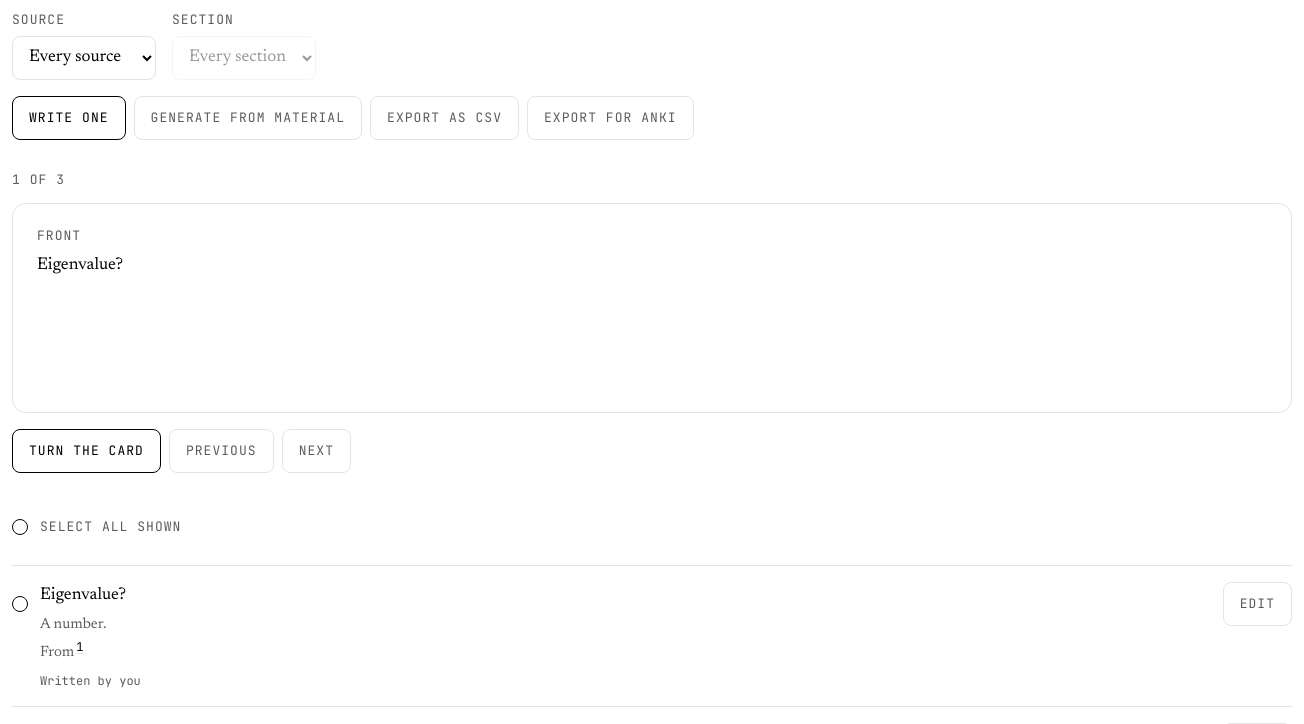
Test: a selection outlives a filter change › says how many of them the filter is hiding, before anything acts on them
This screenshot has width=1304, height=724.
Click the checkbox named "Select this one" at [20, 604], box [12,596,28,612]
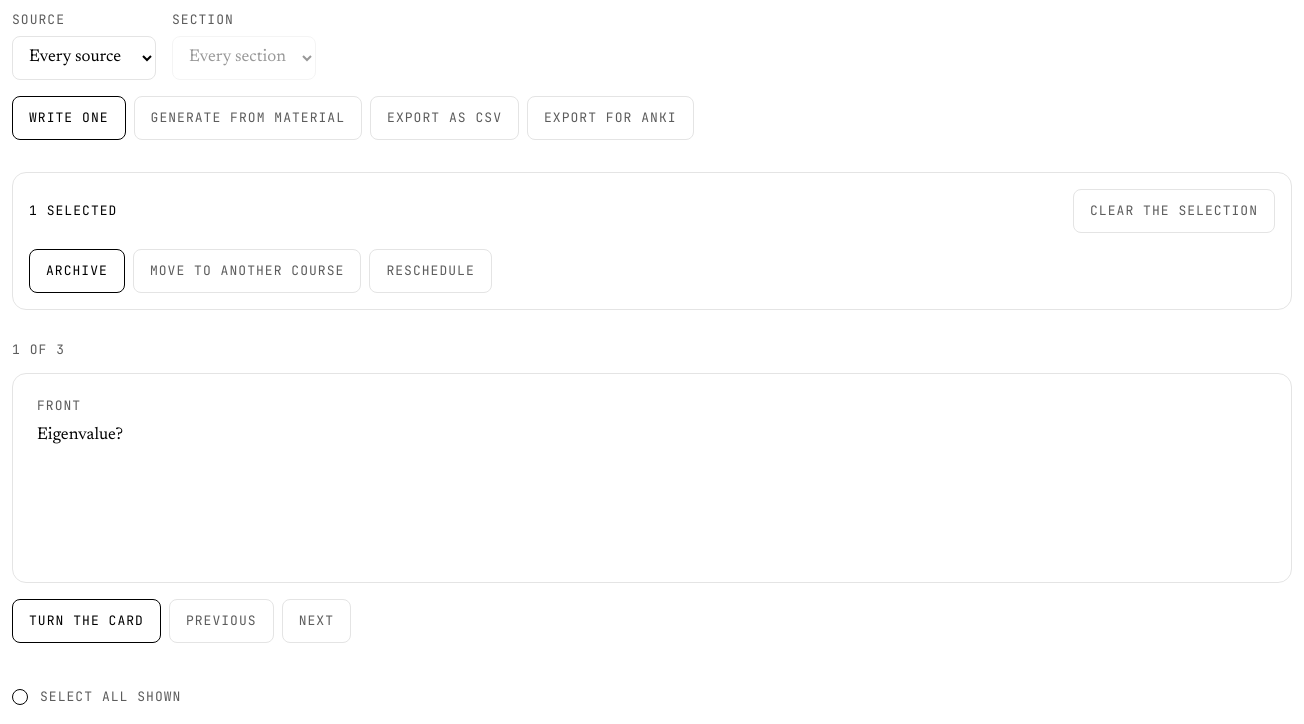
Select "Handout" in the dropdown labelled "Source" at [84, 58], box [12,36,156,80]
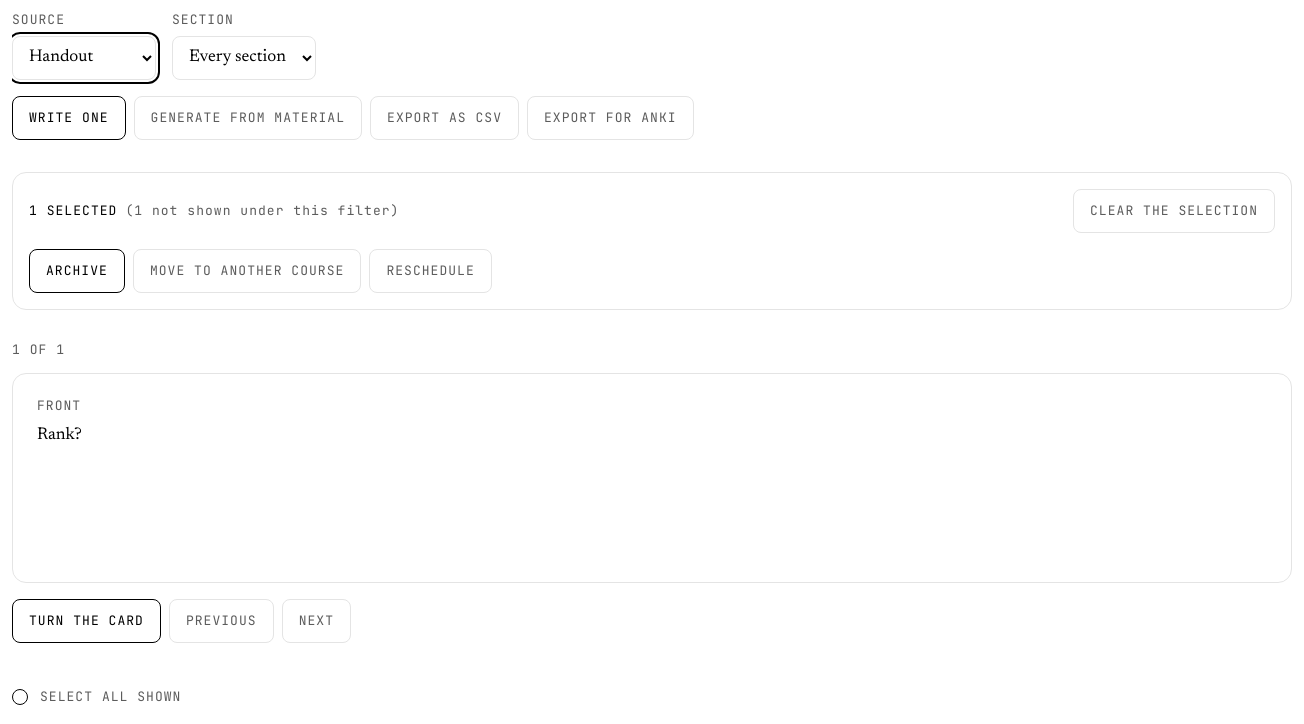
Result: the text "(1 not shown under this filter)" is shown at [125,202,400,219]
